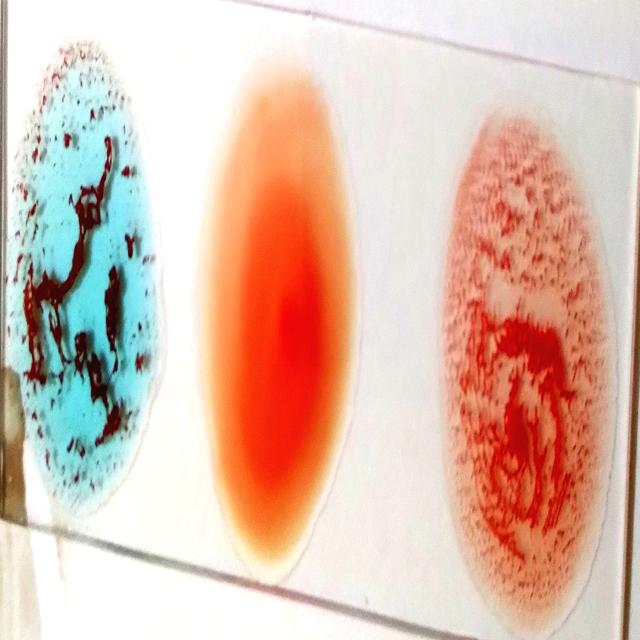A: (16, 47, 152, 495)
D: (444, 132, 610, 618)
